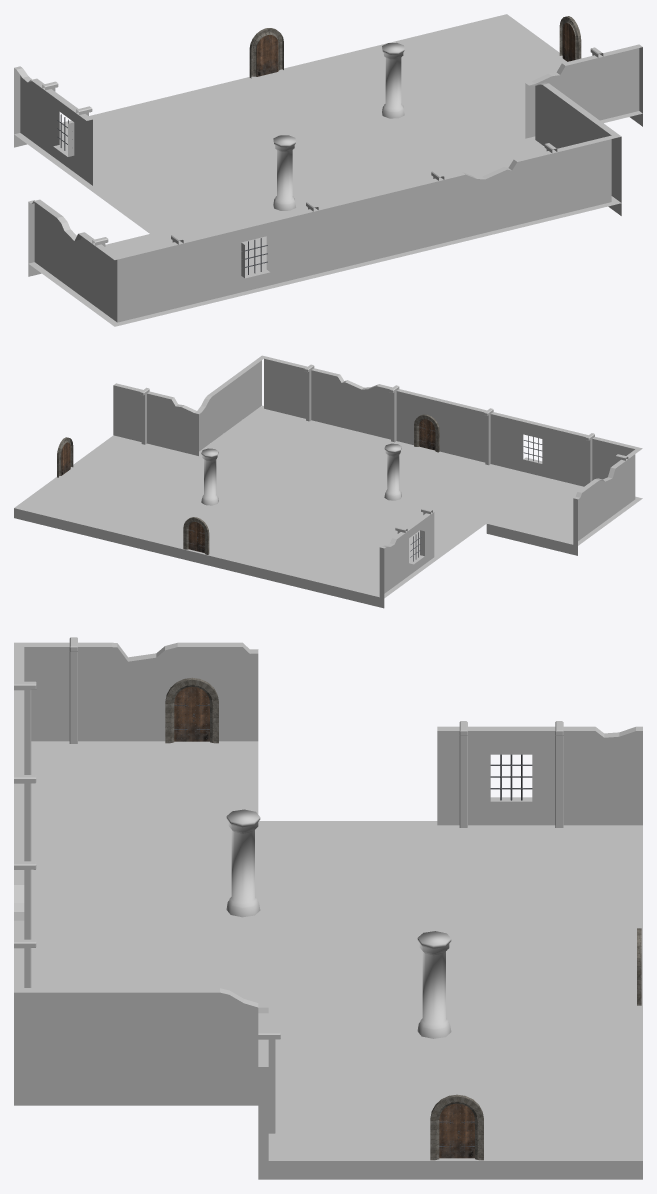
The model's file is def008_room.fbx.
3 views of the same model, one above another, from view 1: azimuth 30°, elevation 25°; view 2: azimuth 150°, elevation 25°; view 3: azimuth 270°, elevation 25° (orthographic). The views are drawn at different scales.
Parts seen in each view (by area): view 1: def008_floor, wall008_3, pillar_002.018, pillar_002.017, door_wood.031, door_stone.031, door_wood.032, door_stone.032; view 2: def008_floor, wall008_3, pillar_002.018, pillar_002.017, door_wood.030, door_wood.031, door_stone.031, door_stone.030; view 3: def008_floor, wall008_3, pillar_002.017, pillar_002.018, door_wood.029, door_wood.032, door_stone.032, door_stone.029, pillar_001.052, pillar_001.054, pillar_001.055, pillar_001.048 (+3 smaller).
Part boxes in pixels (bbox=[...]): def008_floor: bbox=[14, 14, 642, 326]; wall008_3: bbox=[14, 44, 642, 322]; pillar_002.018: bbox=[382, 42, 404, 118]; pillar_002.017: bbox=[273, 135, 295, 210]; door_wood.031: bbox=[256, 35, 278, 76]; door_stone.031: bbox=[249, 28, 283, 78]; door_wood.032: bbox=[562, 23, 575, 61]; door_stone.032: bbox=[559, 16, 581, 59]; def008_floor: bbox=[14, 405, 642, 608]; wall008_3: bbox=[113, 355, 642, 598]; pillar_002.018: bbox=[201, 448, 218, 505]; pillar_002.017: bbox=[384, 443, 401, 500]; door_wood.030: bbox=[419, 419, 435, 450]; door_wood.031: bbox=[188, 522, 204, 552]; door_stone.031: bbox=[183, 517, 209, 554]; door_stone.030: bbox=[414, 414, 439, 452]; def008_floor: bbox=[14, 741, 642, 1179]; wall008_3: bbox=[14, 642, 642, 1160]; pillar_002.017: bbox=[226, 809, 260, 917]; pillar_002.018: bbox=[417, 931, 451, 1038]; door_wood.029: bbox=[174, 686, 209, 741]; door_wood.032: bbox=[439, 1103, 474, 1158]; door_stone.032: bbox=[430, 1094, 483, 1160]; door_stone.029: bbox=[165, 677, 218, 743]; pillar_001.052: bbox=[69, 637, 77, 743]; pillar_001.054: bbox=[459, 721, 467, 827]; pillar_001.055: bbox=[555, 721, 563, 827]; pillar_001.048: bbox=[258, 1031, 280, 1133].
Size of the model in its own units: 4831 by 629 by 3028.
